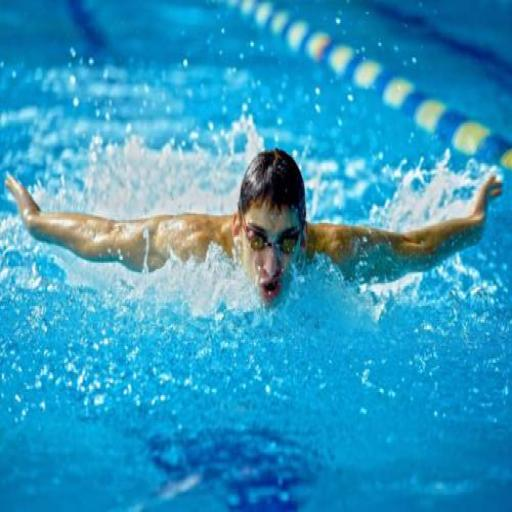swimming: (2, 146, 504, 314)
